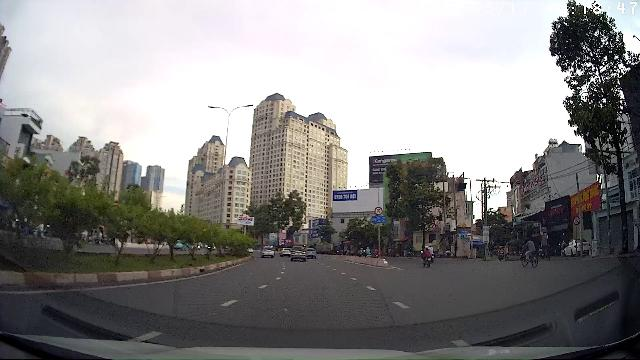127-toc-do-toi-da-70: (375, 207, 383, 216)
